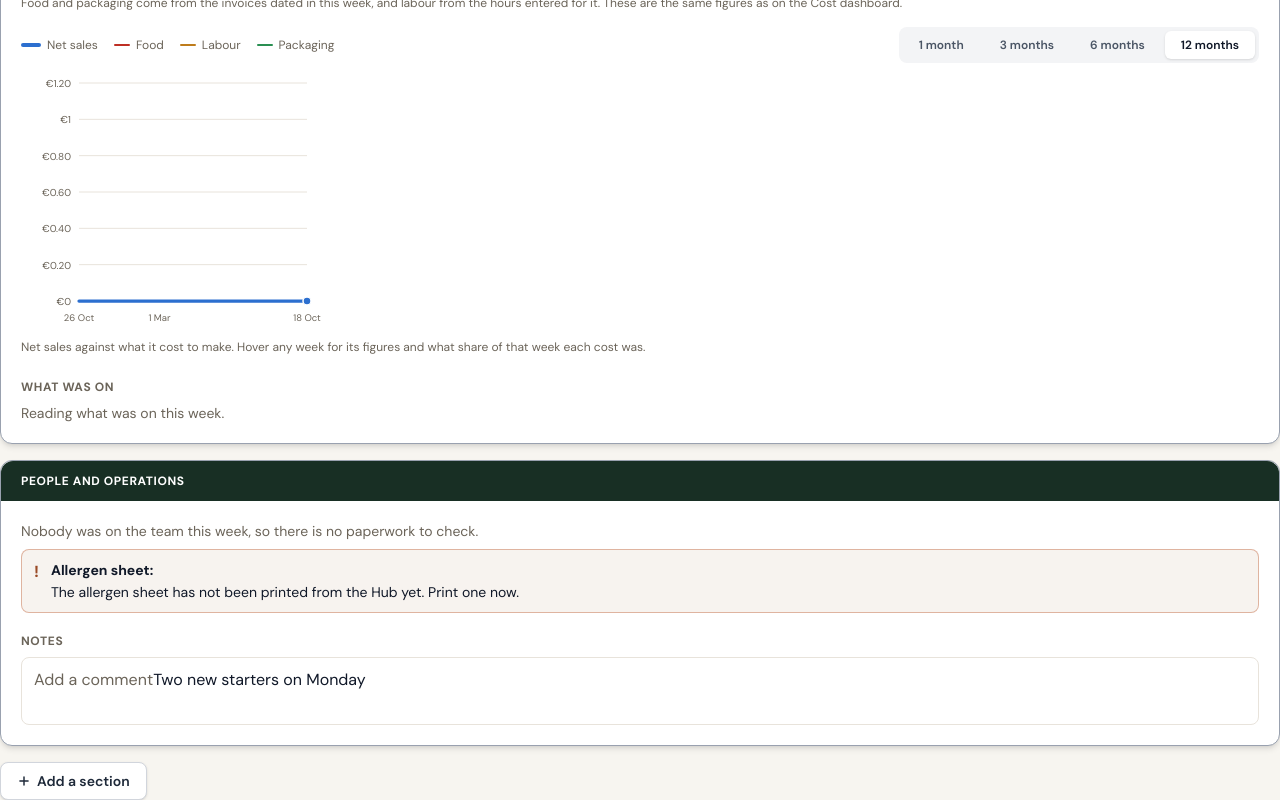
Test: a read that fails › holds Publish when the report itself cannot be read again after a write
(page scrolled)
Clear the field named "Add a comment" at (640, 691), box [21,657,1259,725]
(page scrolled)
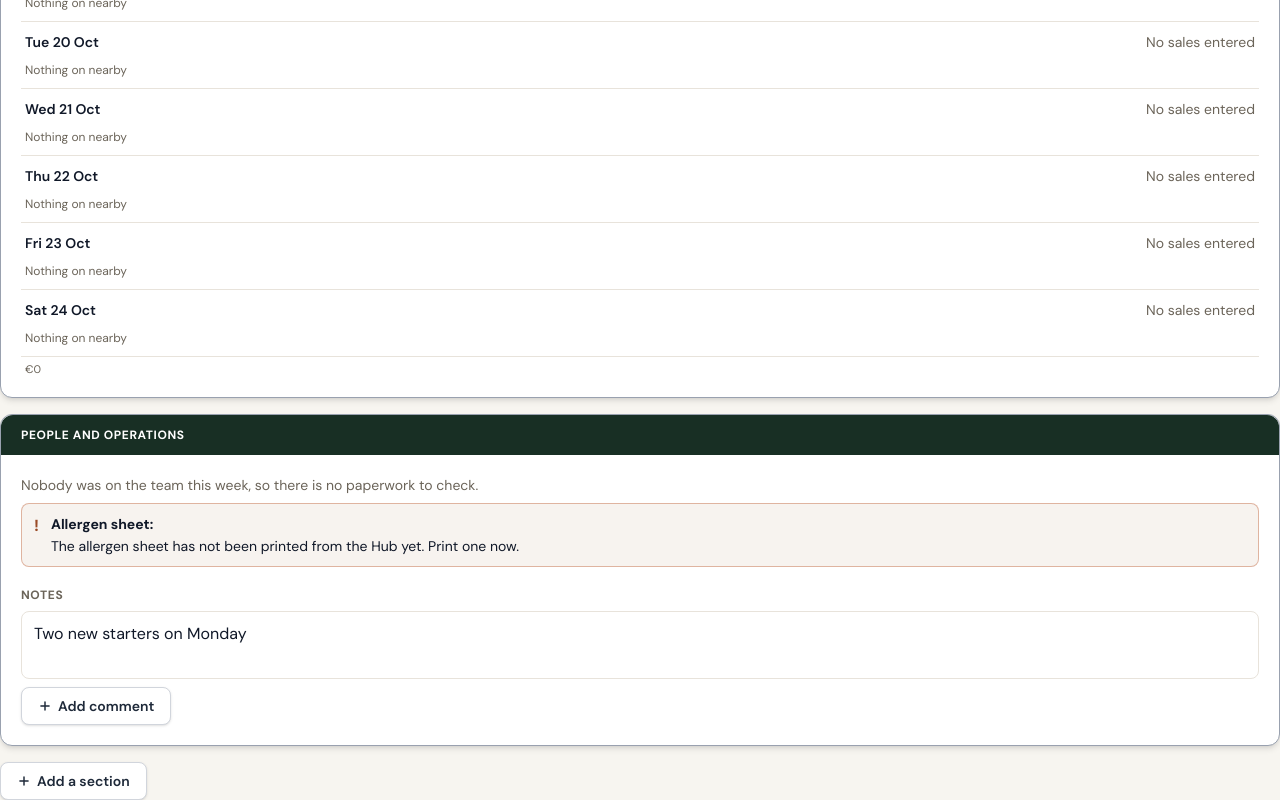
Leave the field named "Add a comment", box [21,611,1259,679]
(page scrolled)
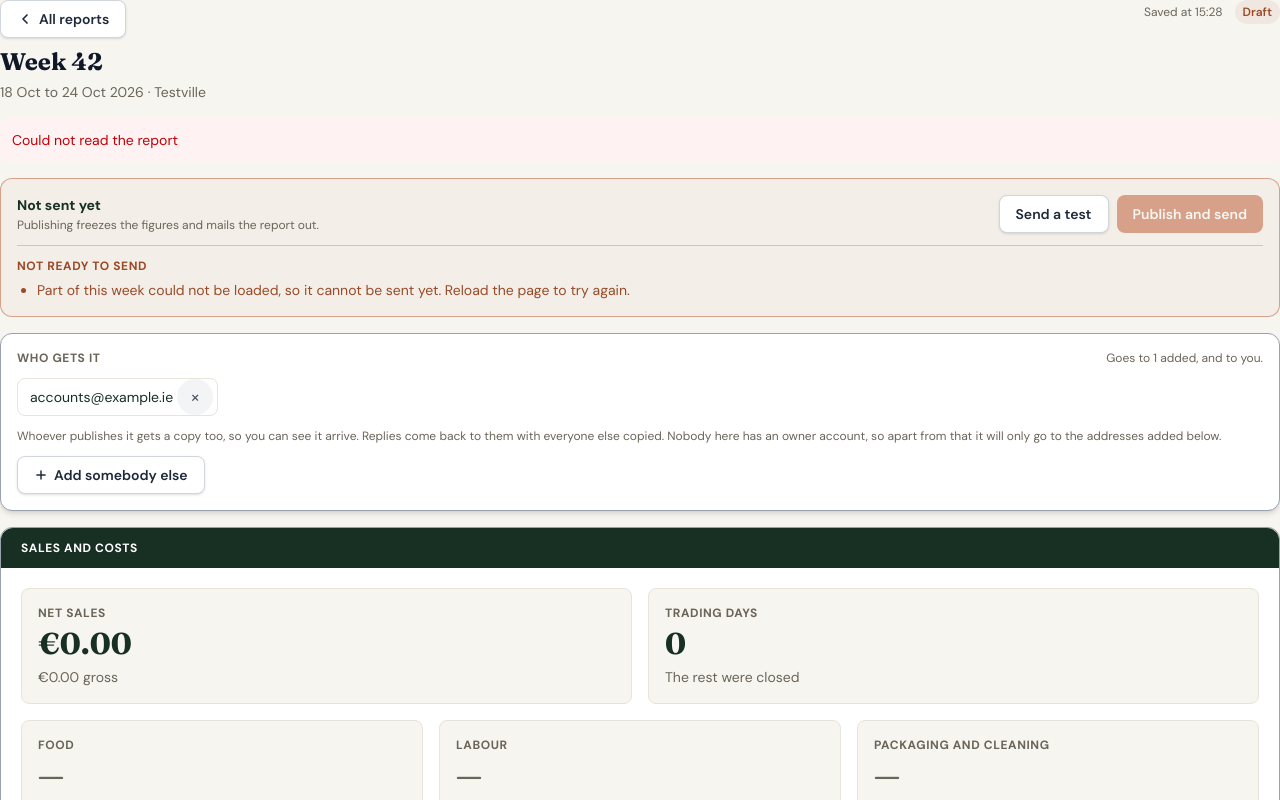
Now the text "Could not read the report" is shown, box [0,118,1279,162]
Now the button "Publish and send" is disabled, box [1116,195,1263,233]
